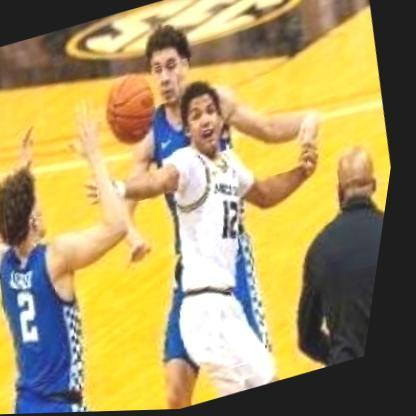basketball: (95, 68, 174, 152)
